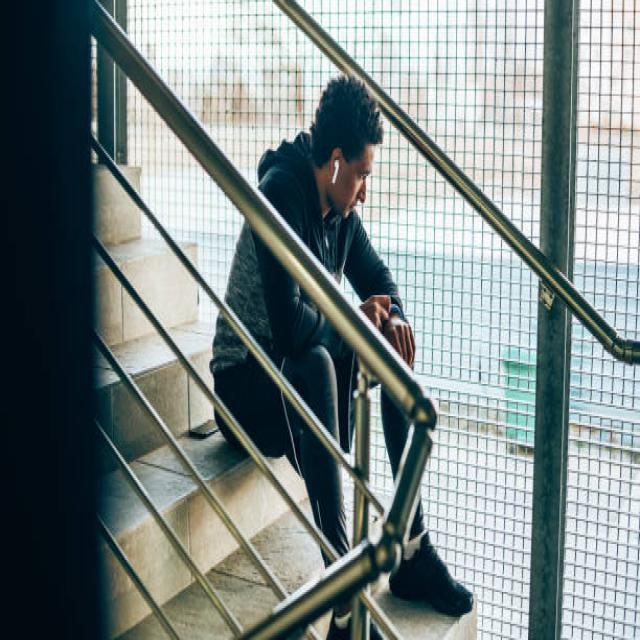airpods: (332, 158, 339, 186)
